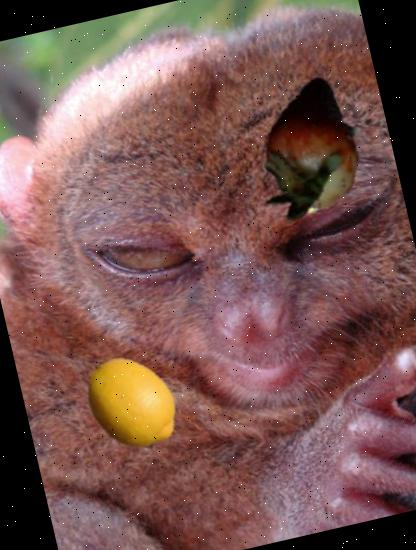Lemon: (71, 344, 193, 466)
Strawberry: (228, 73, 380, 224)
